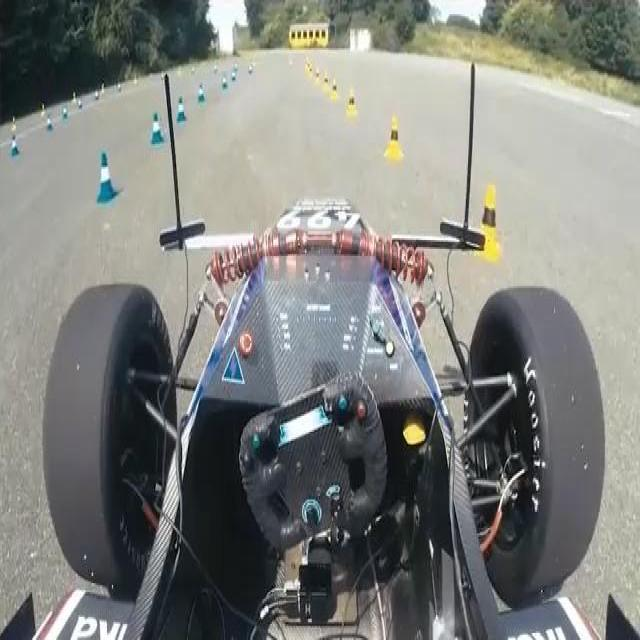blue_cone: (97, 151, 120, 204), (150, 110, 165, 146), (176, 96, 187, 123)
yellow_cone: (471, 182, 504, 262), (381, 114, 407, 162), (345, 87, 360, 118)
